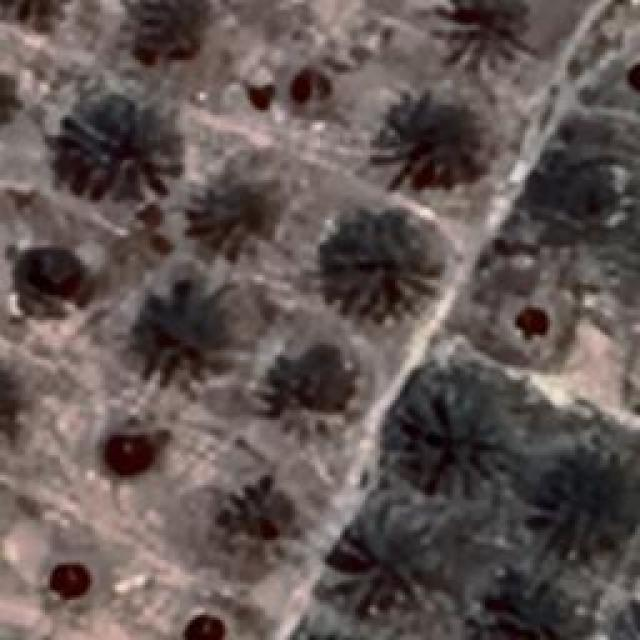PalmTree: (38, 16, 257, 512), (320, 208, 445, 328), (62, 100, 182, 200), (402, 392, 516, 492), (141, 291, 244, 399), (320, 510, 430, 608), (544, 462, 634, 556), (109, 0, 224, 64), (478, 570, 572, 640), (205, 172, 293, 246), (404, 100, 474, 182), (99, 418, 170, 486), (444, 0, 524, 58), (0, 356, 24, 446), (0, 55, 22, 139), (276, 623, 384, 640), (0, 354, 16, 446), (0, 51, 16, 139)
